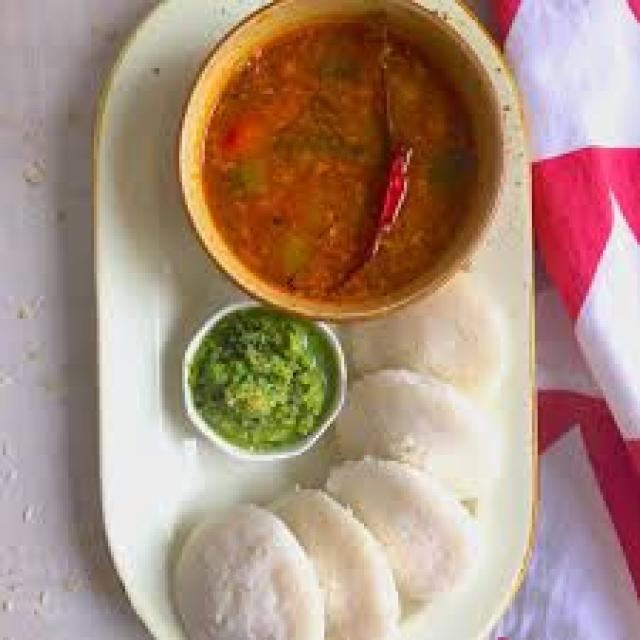IDLI: (324, 458, 475, 614), (338, 273, 503, 401), (338, 373, 498, 498), (174, 503, 321, 637), (279, 492, 398, 637)
